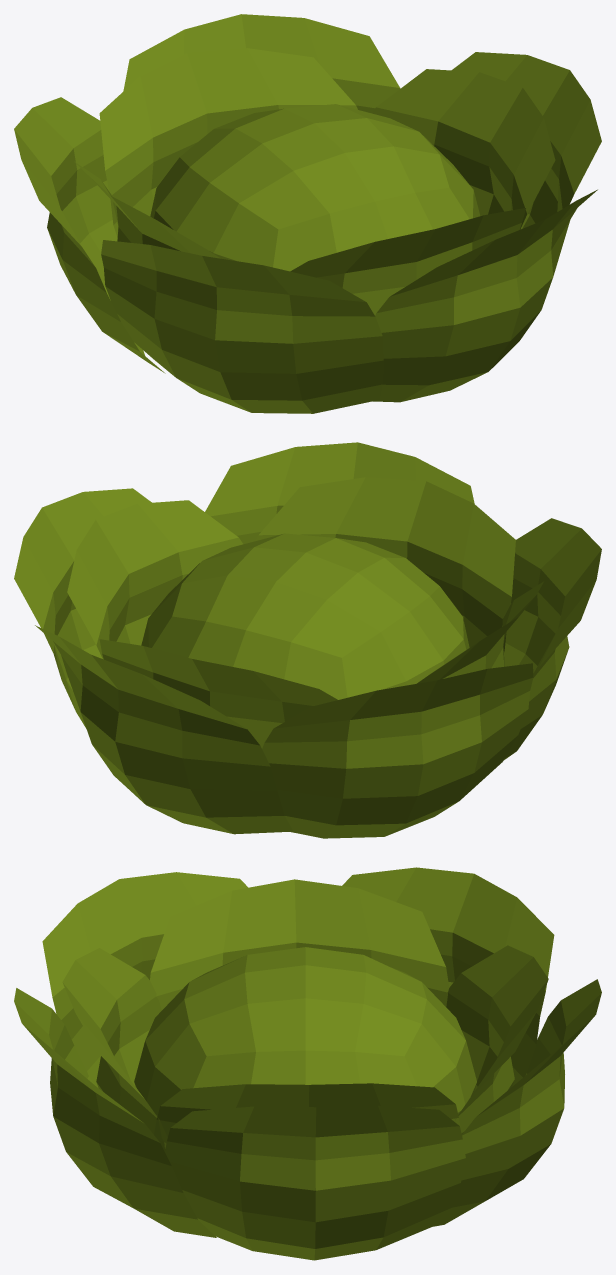
The model's file is letuce.fbx.
3 views of the same model, one above another, from view 1: azimuth 30°, elevation 25°; view 2: azimuth 150°, elevation 25°; view 3: azimuth 270°, elevation 25° (orthographic).
Visible parts, largest first — view 1: letuce; view 2: letuce; view 3: letuce.
Part boxes in pixels (box(x1,y1,x2,y2)): letuce: box(14, 14, 601, 413); letuce: box(14, 442, 601, 838); letuce: box(14, 867, 601, 1260).
Bounding box in the file's own units: 52.29 × 22.67 × 51.78.
